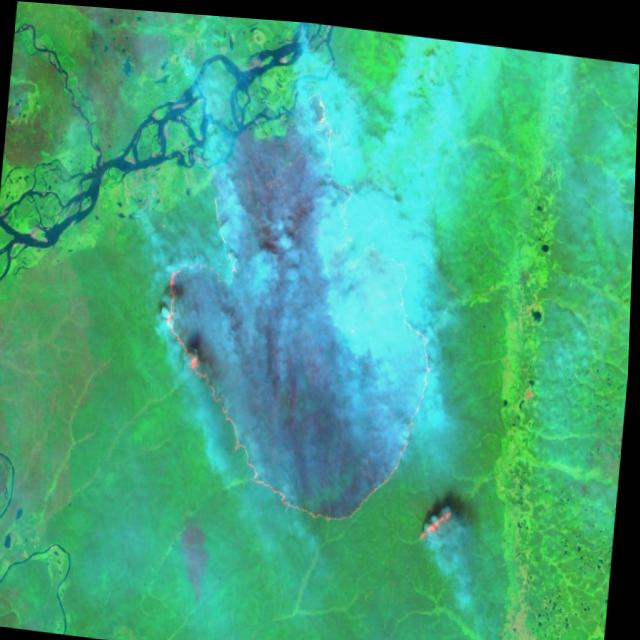fire: (145, 60, 505, 551)
